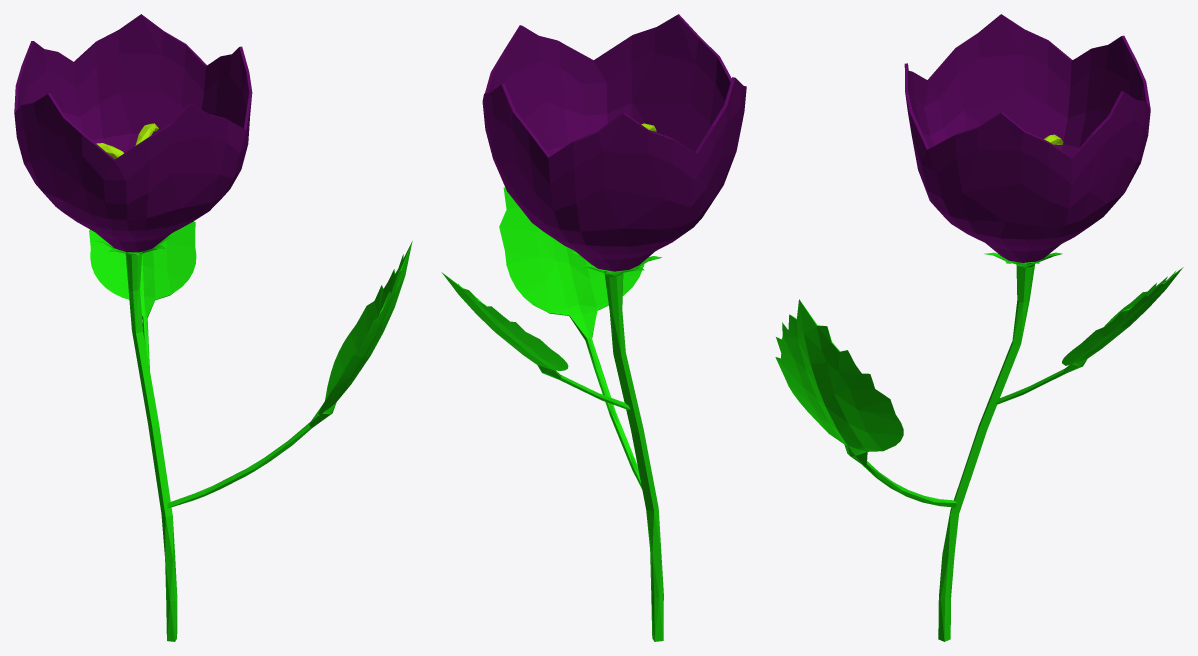
The model's file is Karparten_LP_1.fbx.
3 renders of one model, left to right at view 1: azimuth 30°, elevation 25°; view 2: azimuth 150°, elevation 25°; view 3: azimuth 270°, elevation 25°, orthographic. The views are drawn at different scales.
Visible parts, largest first — view 1: Kaparten_LP; view 2: Kaparten_LP; view 3: Kaparten_LP.
Part boxes in pixels (x1=…): Kaparten_LP: x1=14, y1=14, x2=412, y2=641; Kaparten_LP: x1=441, y1=14, x2=746, y2=641; Kaparten_LP: x1=775, y1=14, x2=1183, y2=641.
Bounding box in the file's own units: 105 × 199 × 128.
